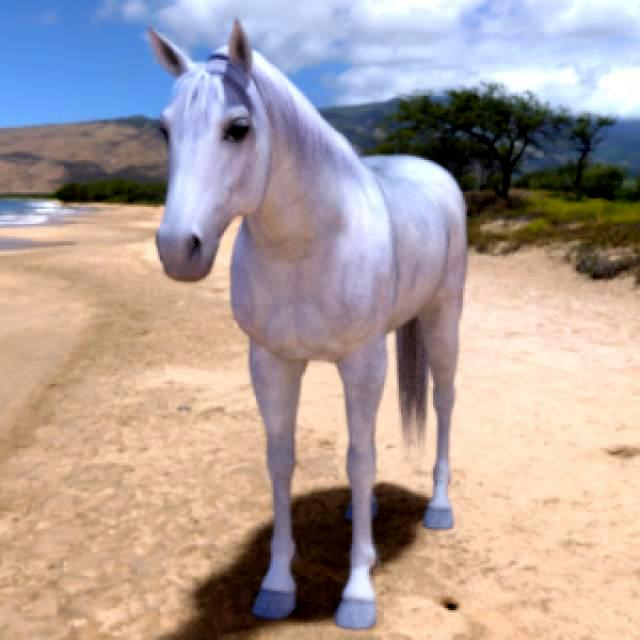horse: (152, 21, 466, 628)
